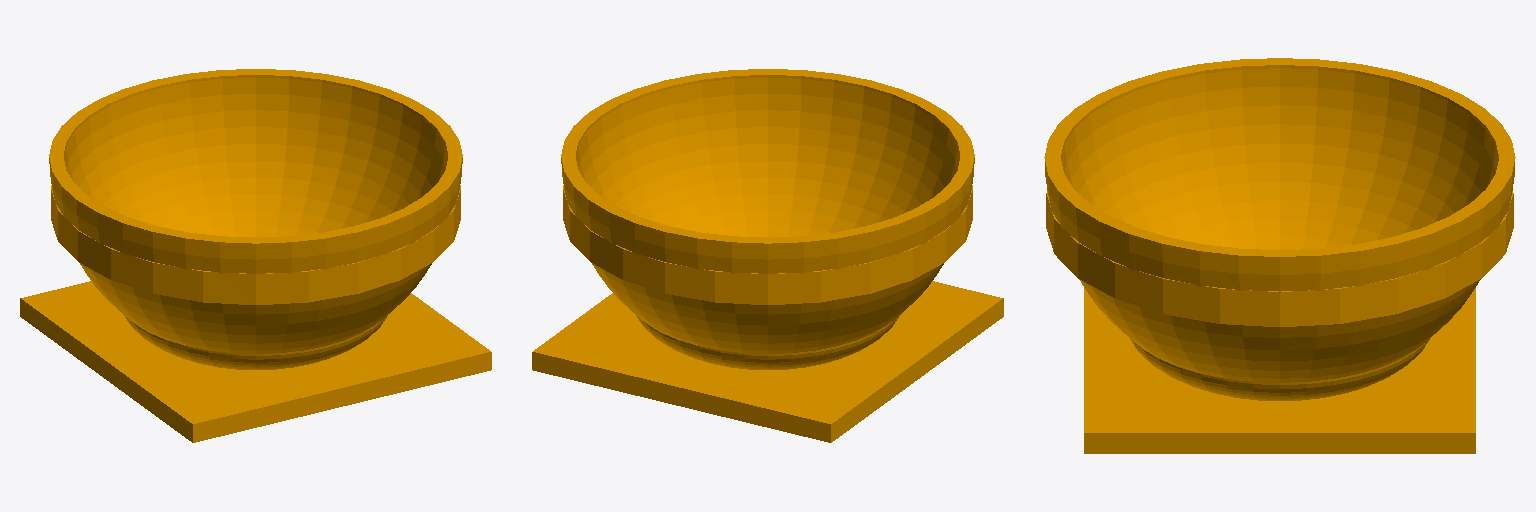
The robot description file, URDF, robot "bowl":
<?xml version="1.0" ?>
<robot name="bowl">
  <link name="base_link">
    <inertial>
      <mass value="0.0"/>
      <origin rpy="0 0 0" xyz="0 0 0"/>
      <inertia ixx="0.0" ixy="0" ixz="0" iyy="0.0" iyz="0" izz="0.0"/>
    </inertial>
    <visual>
      <geometry>
        <mesh filename="tinker.obj"/>
      </geometry>
    </visual>
    <collision>
      <geometry>
        <mesh filename="tinker.obj"/>
      </geometry>
    </collision>
  </link>
</robot>

--- Render facts (derived) ---
The picture shows the robot from 3 angles, left to right: view 1: azimuth 30°, elevation 25°; view 2: azimuth 150°, elevation 25°; view 3: azimuth 270°, elevation 25°; orthographic projection.
Robot: bowl — 1 links, 0 joints (none); root link base_link; default pose: all joints at 0.
Links seen in each view (by area): view 1: base_link; view 2: base_link; view 3: base_link.
Boxes of the visible links, x1,y1,x2,y2 form: base_link: (20, 69, 491, 442); base_link: (532, 69, 1003, 442); base_link: (1044, 58, 1515, 453).
Size in the robot's own frame: 2 by 2 by 1 metres.
Meshes: 1 distinct files referenced, 1 mesh visuals loaded (1 OBJ).